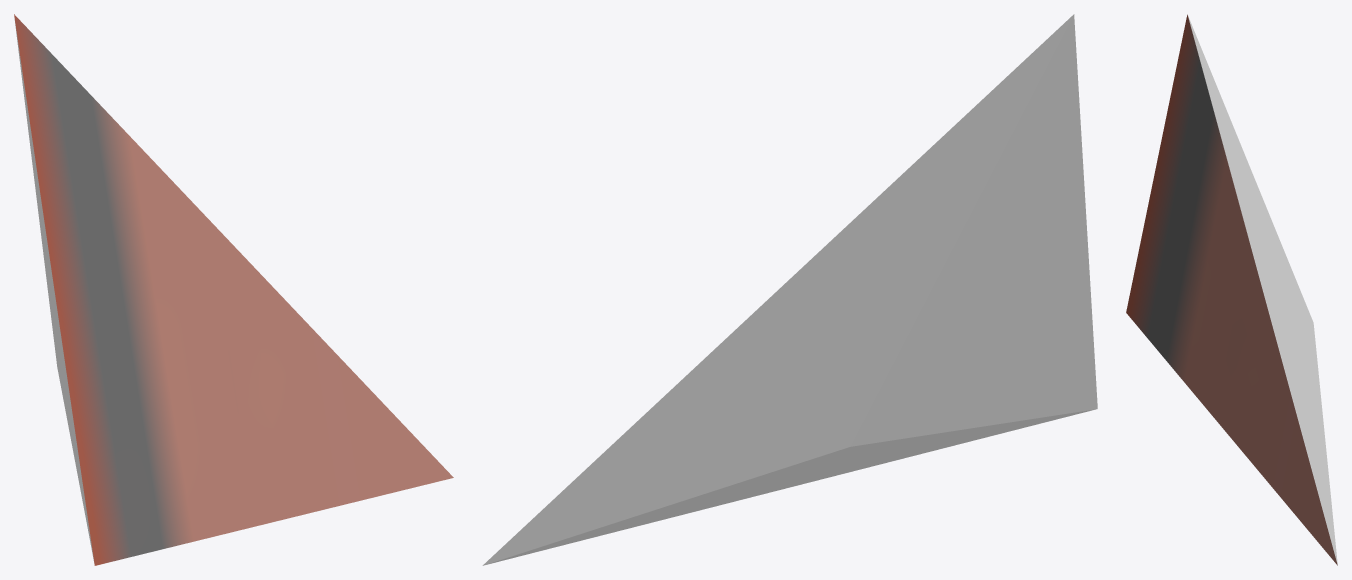
Rendered from LongVase_SHAT_cell_010.fbx.
3 views of the same model, side by side, from view 1: azimuth 30°, elevation 25°; view 2: azimuth 150°, elevation 25°; view 3: azimuth 270°, elevation 25° (orthographic). The views are drawn at different scales.
Visible parts, largest first — view 1: LongVase_SHAT_cell_010; view 2: LongVase_SHAT_cell_010; view 3: LongVase_SHAT_cell_010.
Boxes of the visible parts, <box> form: LongVase_SHAT_cell_010: <box>14,14,453,565</box>; LongVase_SHAT_cell_010: <box>482,14,1097,565</box>; LongVase_SHAT_cell_010: <box>1126,14,1337,565</box>.
Size of the model in its own units: 0.0467 by 0.0546 by 0.0266.
Materials: 2 (1 with a texture image).
